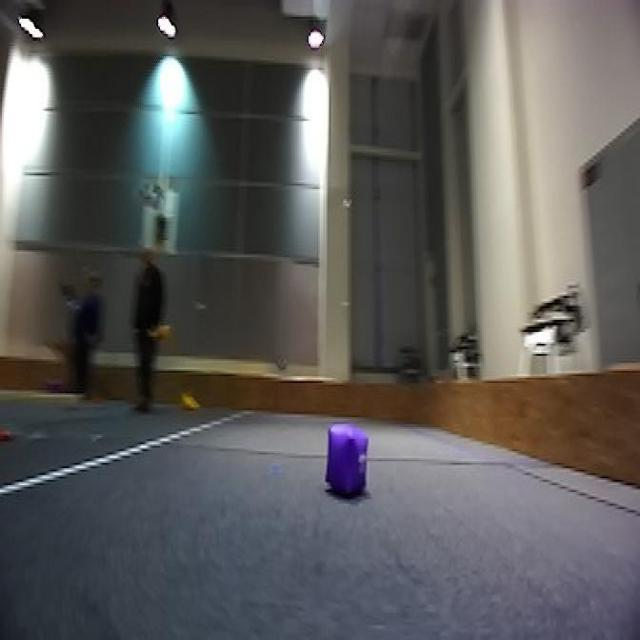frc_cone: (149, 317, 175, 347), (178, 388, 199, 412)
frc_cube: (325, 422, 370, 499)
